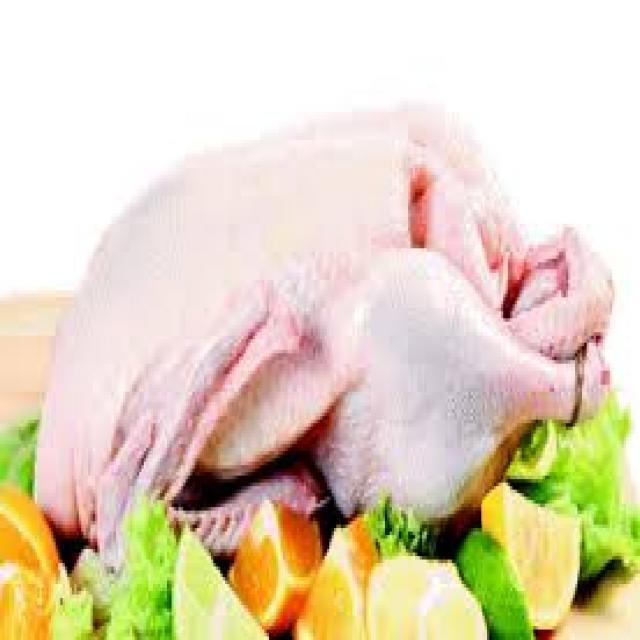chicken: (34, 103, 614, 561)
